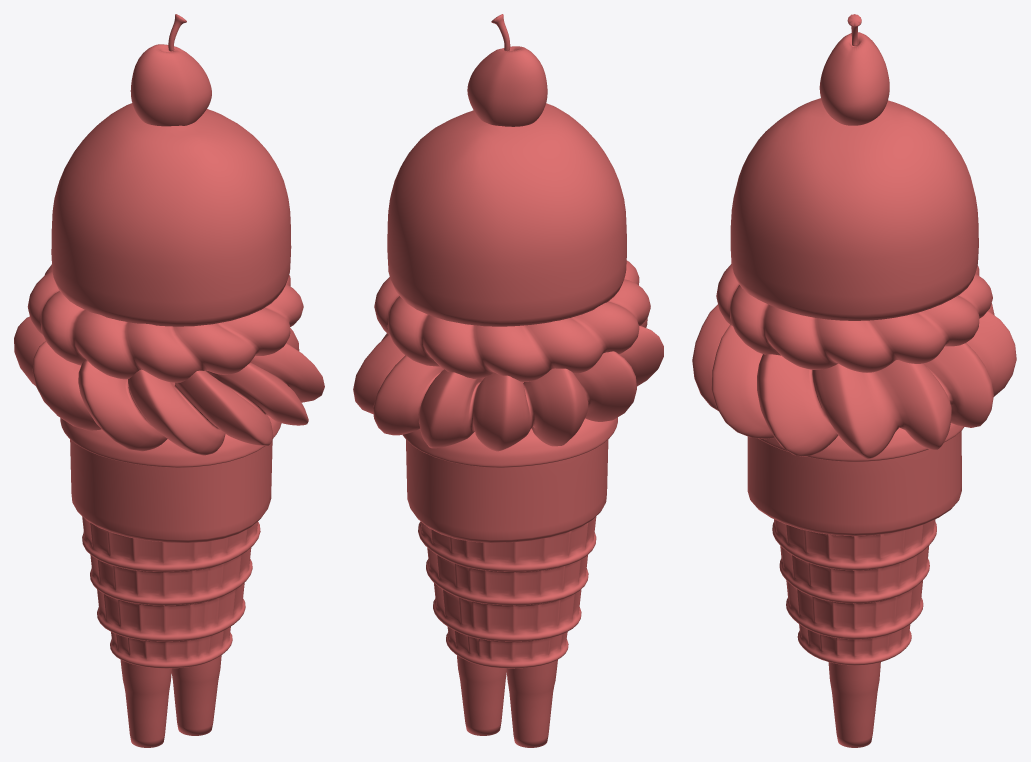
The picture shows the model from 3 angles, left to right: view 1: azimuth 30°, elevation 25°; view 2: azimuth 150°, elevation 25°; view 3: azimuth 270°, elevation 25°; orthographic projection.
Parts seen in each view (by area): view 1: Cherry; view 2: Cherry; view 3: Cherry.
Boxes of the visible parts, x1,y1,x2,y2 form: Cherry: [14, 14, 324, 747]; Cherry: [353, 14, 663, 747]; Cherry: [692, 14, 1016, 747].
Bounding box in the file's own units: 0.5019 × 1.32 × 0.5384.
